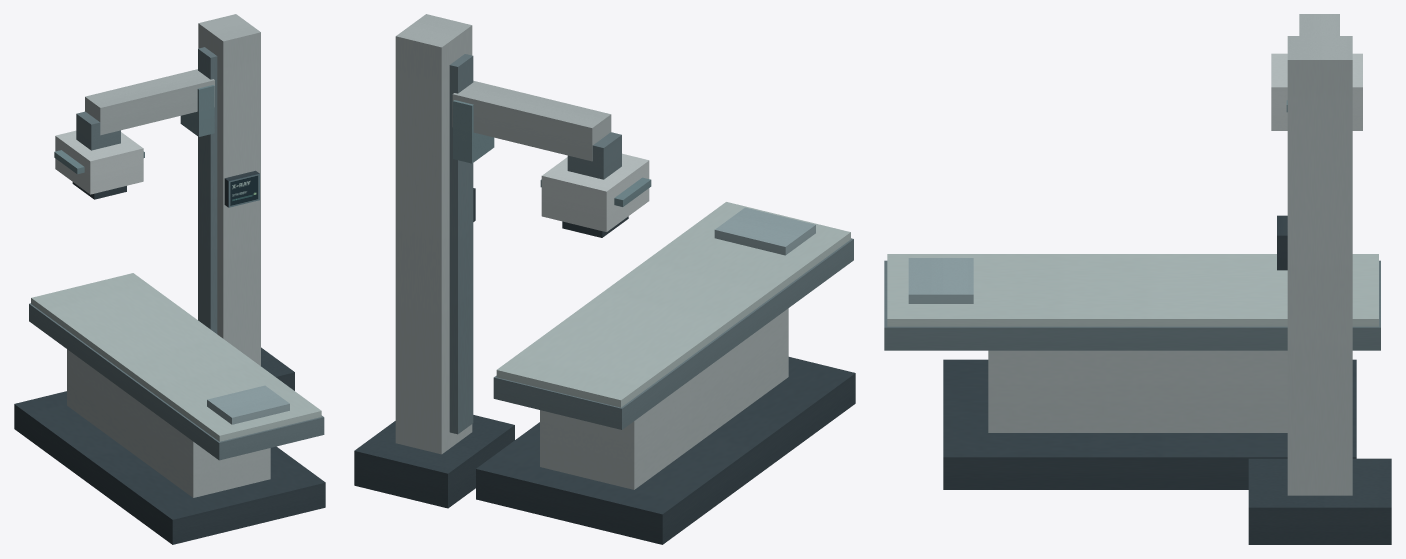
Rendered from X_Ray_System.glb.
3 renders of one model, left to right at view 1: azimuth 30°, elevation 25°; view 2: azimuth 150°, elevation 25°; view 3: azimuth 270°, elevation 25°, orthographic. The views are drawn at different scales.
Visible parts, largest first — view 1: X_Ray_System; view 2: X_Ray_System; view 3: X_Ray_System.
Part boxes in pixels (bbox=[...]): X_Ray_System: bbox=[14, 14, 325, 544]; X_Ray_System: bbox=[354, 14, 855, 544]; X_Ray_System: bbox=[884, 14, 1391, 544].
Bounding box in the file's own units: 1.58 × 2.28 × 2.22.
1 material, 1 textured.
